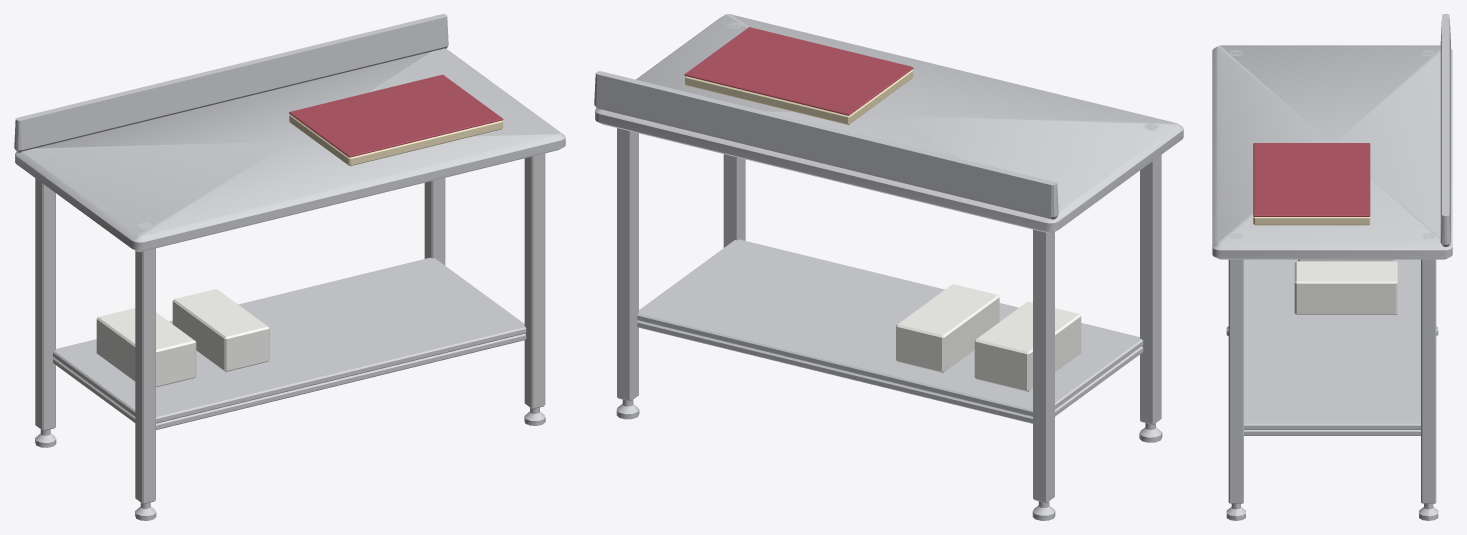
The model's file is butchers-shop-and-deli-counter-stainless-prep-table-7c8a3bb8.glb.
The picture shows the model from 3 angles, left to right: view 1: azimuth 30°, elevation 25°; view 2: azimuth 150°, elevation 25°; view 3: azimuth 270°, elevation 25°; orthographic projection. The views are drawn at different scales.
Parts seen in each view (by area): view 1: stainless-prep-table; view 2: stainless-prep-table; view 3: stainless-prep-table.
Part boxes in pixels (box(x1,y1,x2,y2)): stainless-prep-table: box(14, 14, 565, 520); stainless-prep-table: box(594, 14, 1183, 520); stainless-prep-table: box(1212, 14, 1452, 520).
Size of the model in its own units: 1.4 by 0.9959 by 0.7001.
